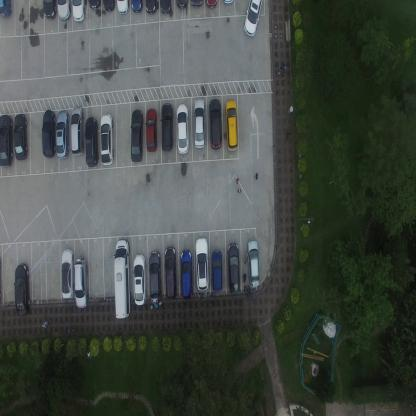car: (113, 238, 132, 317), (14, 263, 31, 316), (207, 98, 223, 150), (73, 257, 89, 309), (242, 0, 263, 39), (12, 113, 29, 161), (194, 236, 209, 290), (224, 99, 239, 152), (175, 103, 190, 155), (85, 116, 100, 167), (70, 106, 85, 157), (55, 109, 70, 160), (130, 108, 144, 162), (60, 249, 75, 299), (100, 114, 114, 167), (133, 253, 147, 306), (179, 248, 193, 300), (0, 112, 13, 168), (227, 241, 240, 296), (148, 249, 161, 303), (42, 109, 56, 158), (246, 238, 259, 288), (160, 102, 173, 152), (164, 246, 176, 299), (193, 97, 204, 150), (210, 249, 223, 292), (146, 107, 158, 153), (56, 0, 72, 22), (72, 0, 85, 23), (42, 0, 56, 21), (144, 0, 158, 18), (116, 0, 130, 17), (0, 0, 12, 19), (159, 0, 173, 16), (131, 0, 145, 14), (87, 0, 102, 11), (104, 0, 116, 13), (204, 0, 218, 11), (175, 0, 188, 11), (190, 0, 203, 8), (222, 0, 234, 8)
